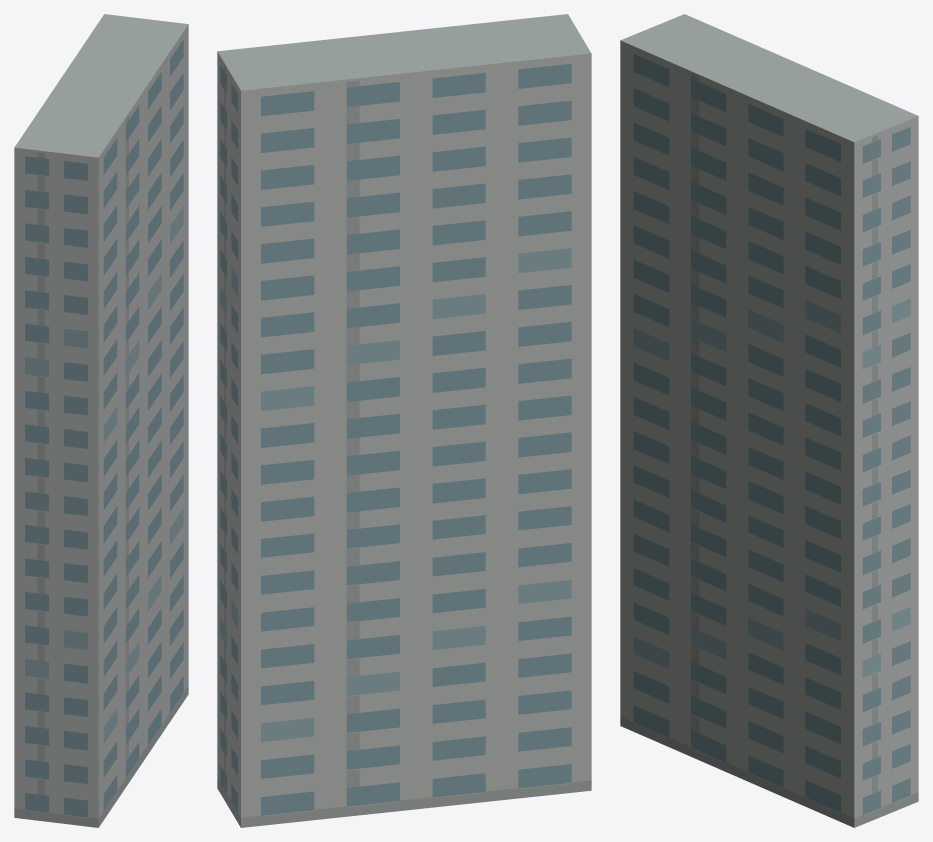
File: residential-6ef61c66-44f9-4da6-b56b-bf4c47941f37.glb
3 renders of one model, left to right at view 1: azimuth 30°, elevation 25°; view 2: azimuth 150°, elevation 25°; view 3: azimuth 270°, elevation 25°, orthographic. The views are drawn at different scales.
Visible parts, largest first — view 1: residential-6ef61c66-44f9-4da6-b56b-bf4c47941f37.tmp; view 2: residential-6ef61c66-44f9-4da6-b56b-bf4c47941f37.tmp; view 3: residential-6ef61c66-44f9-4da6-b56b-bf4c47941f37.tmp.
Part boxes in pixels (x1,y1,x2,y2): residential-6ef61c66-44f9-4da6-b56b-bf4c47941f37.tmp: [14, 14, 188, 827]; residential-6ef61c66-44f9-4da6-b56b-bf4c47941f37.tmp: [217, 14, 591, 827]; residential-6ef61c66-44f9-4da6-b56b-bf4c47941f37.tmp: [620, 14, 918, 827].
Bounding box in the file's own units: 29.72 × 74 × 29.19.
